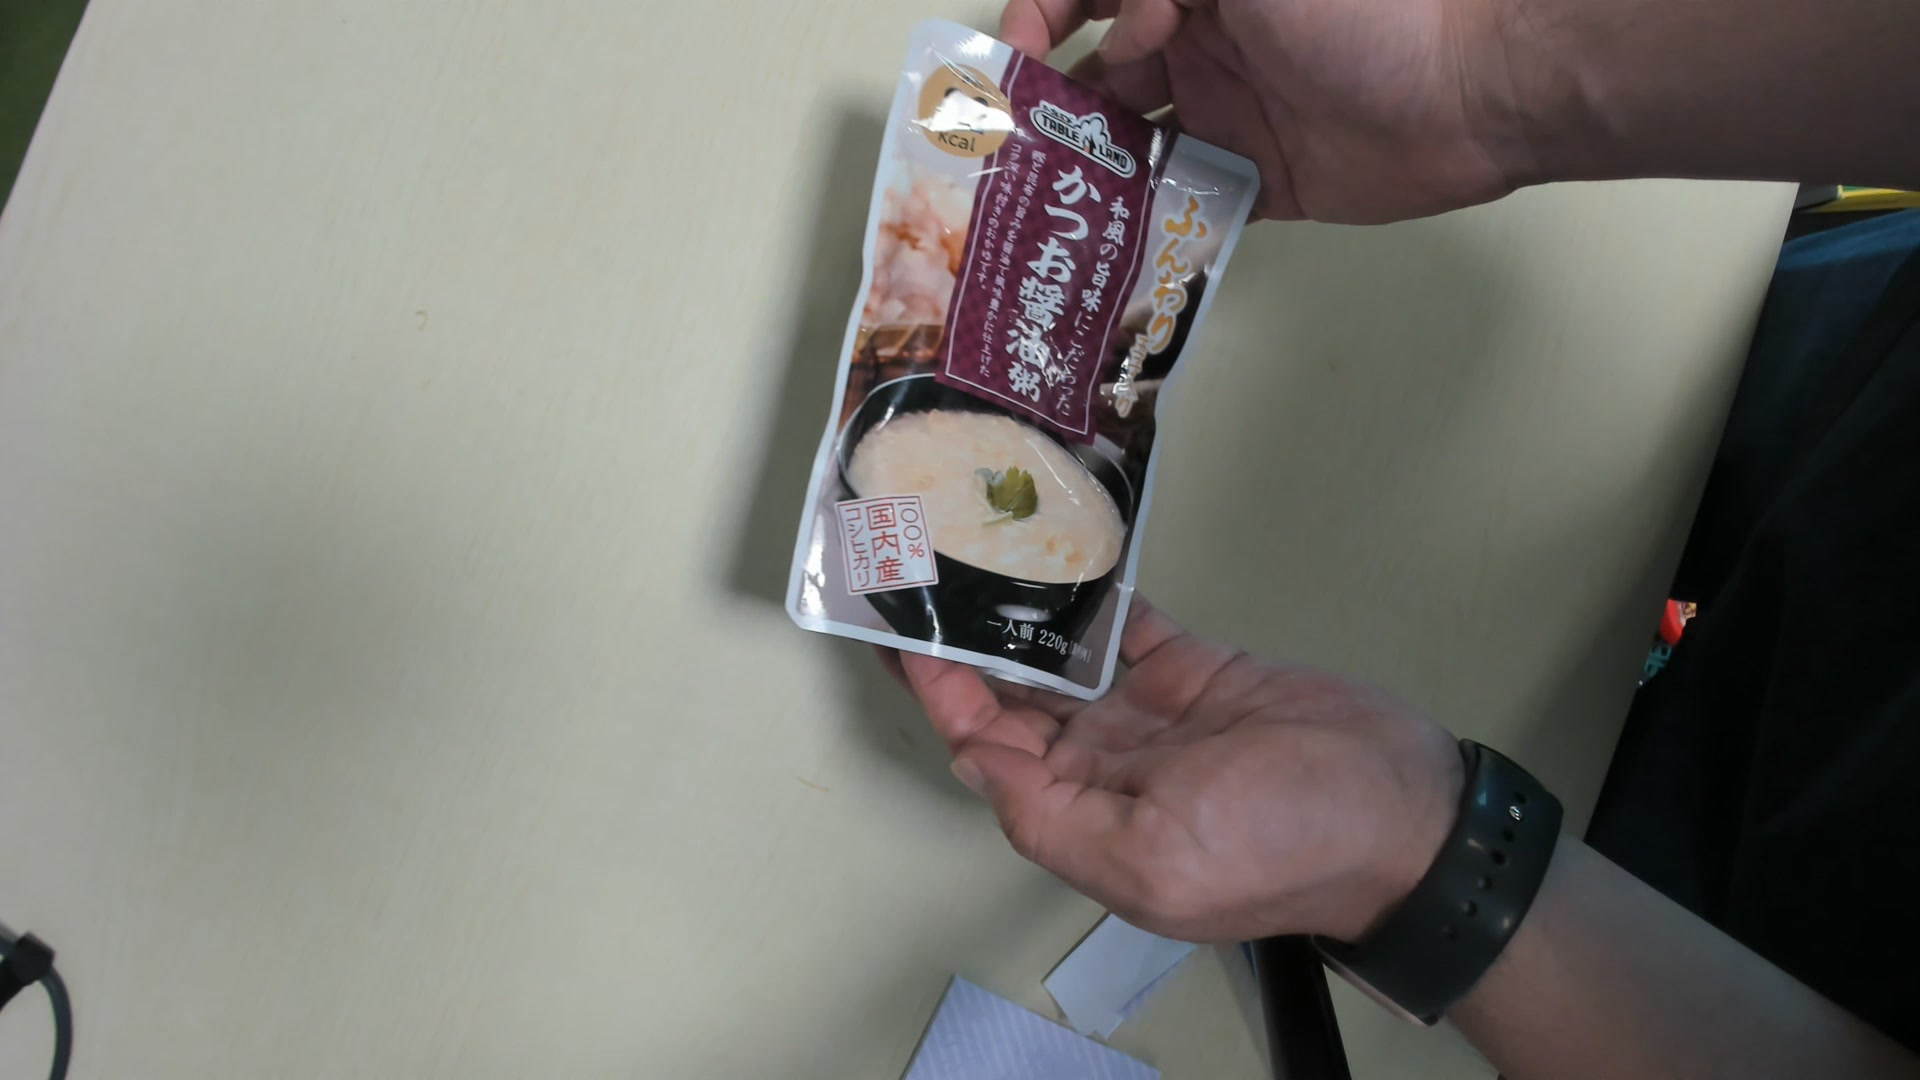InstantMeals_200_299g_NonHalal_NonHealthy: (804, 21, 1255, 688)
